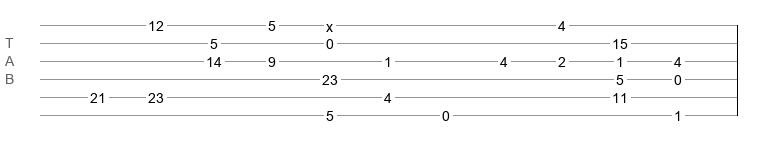0: (326, 36, 334, 46), (442, 108, 450, 118), (674, 72, 682, 82)
1: (384, 54, 392, 64), (616, 54, 624, 64), (674, 108, 682, 118)
11: (612, 90, 628, 100)
12: (148, 18, 164, 28)
14: (206, 54, 222, 64)
15: (612, 36, 628, 46)
2: (558, 54, 566, 64)
21: (90, 90, 106, 100)
23: (148, 90, 164, 100), (322, 72, 338, 82)
4: (384, 90, 392, 100), (500, 54, 508, 64), (558, 18, 566, 28), (674, 54, 682, 64)
5: (210, 36, 218, 46), (268, 18, 276, 28), (326, 108, 334, 118), (616, 72, 624, 82)
9: (268, 54, 276, 64)
x: (326, 19, 333, 27)
